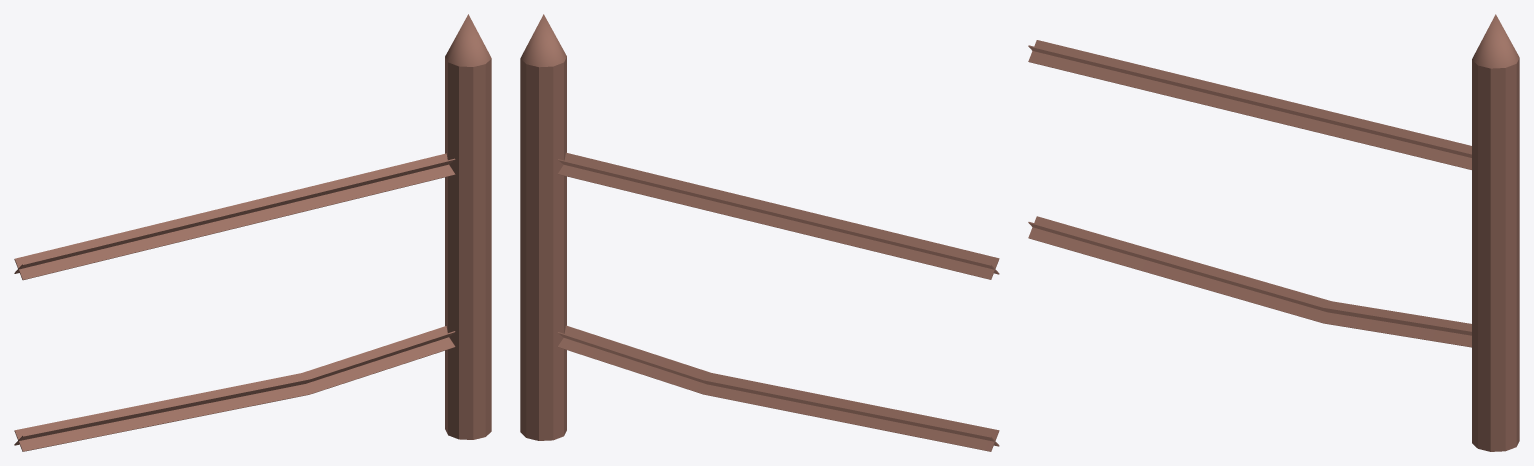
The model's file is Fence_3.fbx.
The picture shows the model from 3 angles, left to right: view 1: azimuth 30°, elevation 25°; view 2: azimuth 150°, elevation 25°; view 3: azimuth 330°, elevation 25°; orthographic projection. The views are drawn at different scales.
Visible parts, largest first — view 1: Fence_3; view 2: Fence_3; view 3: Fence_3.
Boxes of the visible parts, x1,y1,x2,y2 form: Fence_3: (14, 14, 491, 451); Fence_3: (520, 14, 999, 451); Fence_3: (1028, 14, 1519, 451).
Size of the model in its own units: 1.95 by 1.65 by 0.1599.
